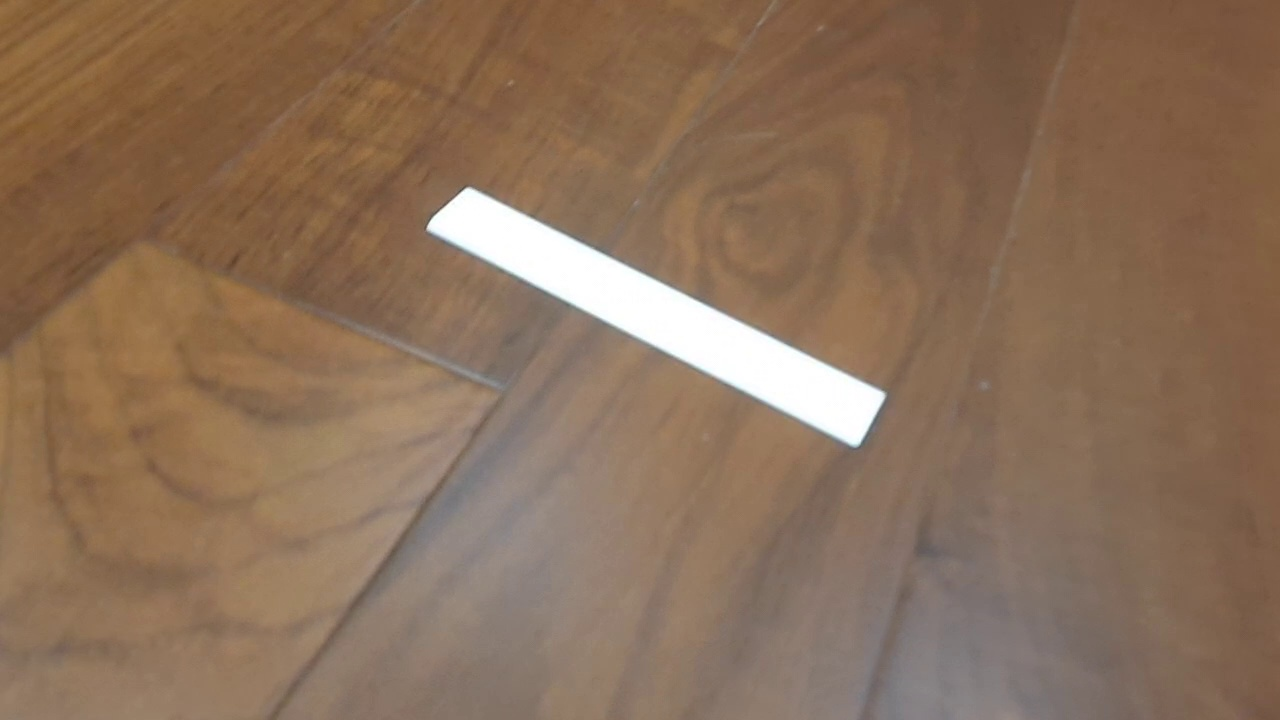ruler: (424, 184, 888, 450)
